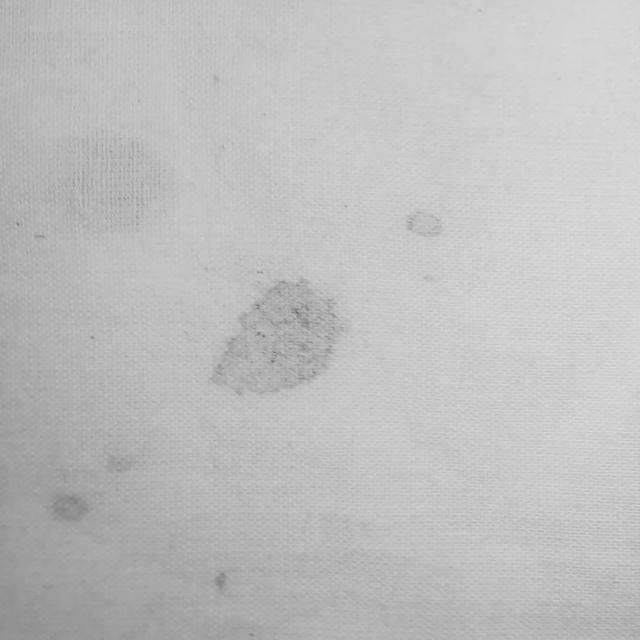Hole: (0, 114, 261, 256), (186, 259, 374, 430), (163, 508, 345, 640), (38, 475, 104, 541), (390, 194, 458, 258), (90, 441, 148, 486)
